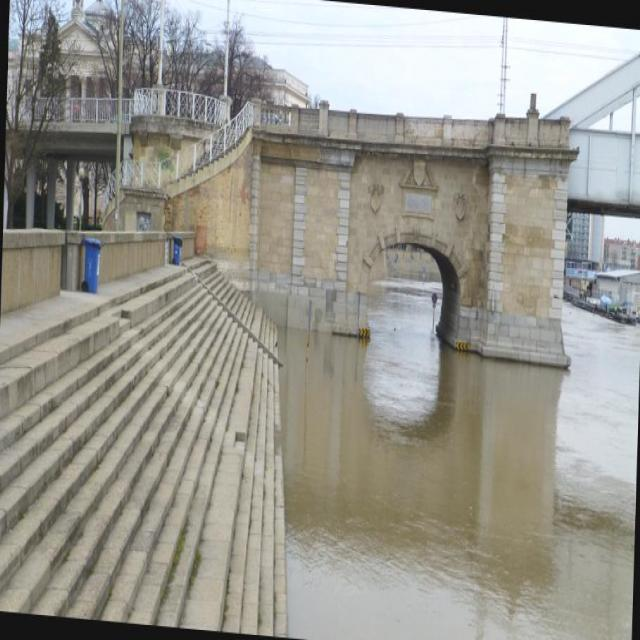flood: (264, 307, 639, 639)
